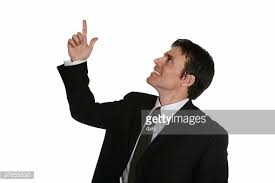hand: (63, 13, 105, 68)
